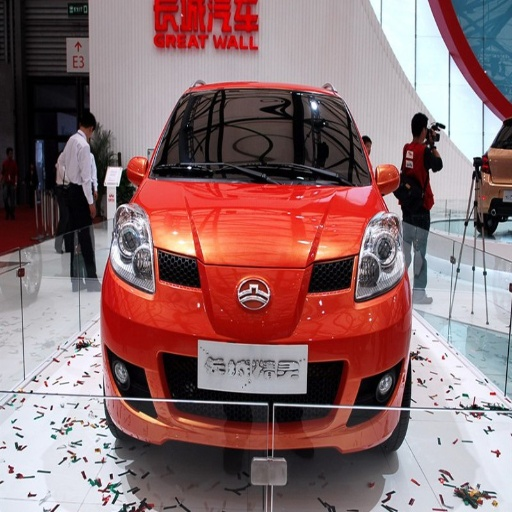front_bumper: (107, 255, 408, 445)
front_right_light: (113, 204, 158, 292)
hood: (137, 178, 385, 266)
